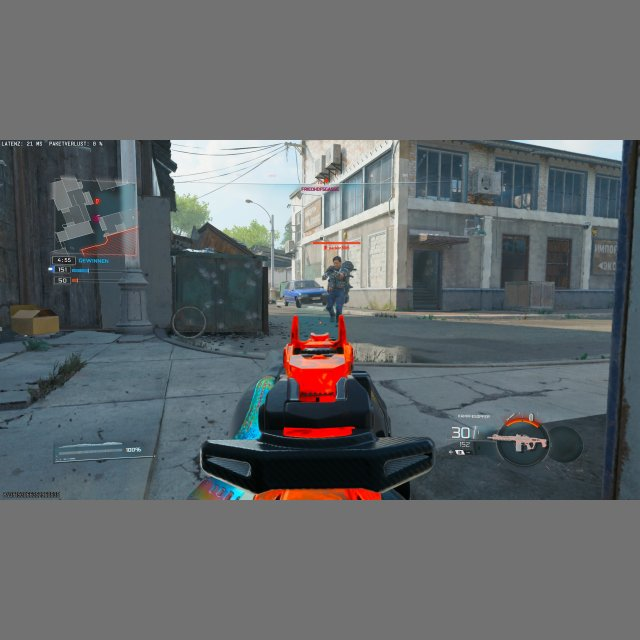head: (332, 255, 341, 266)
player: (322, 255, 356, 336)
